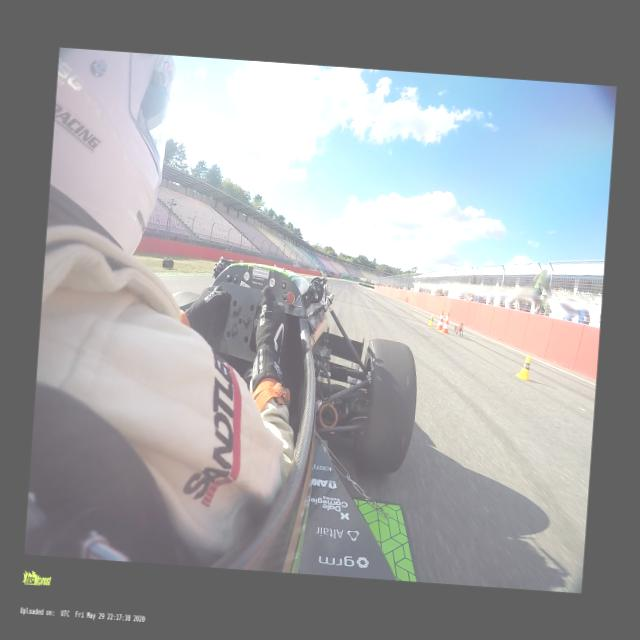large_orange_cone: (440, 312, 450, 334), (435, 310, 445, 330)
yellow_cone: (514, 354, 534, 382), (426, 314, 434, 326)
